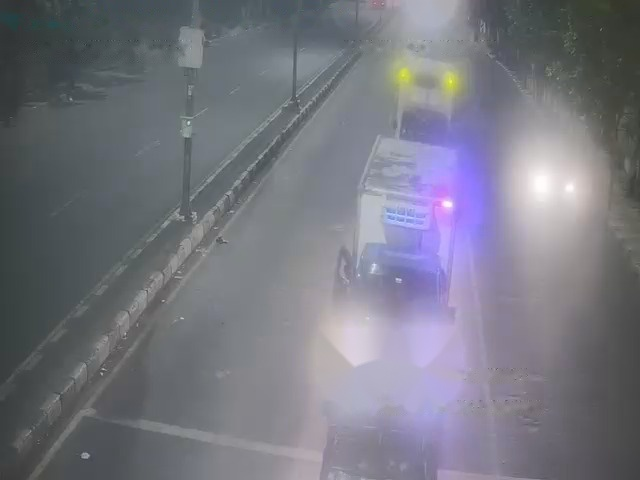Mobil: (521, 150, 583, 205)
Truk: (343, 132, 469, 370), (386, 62, 461, 152)
